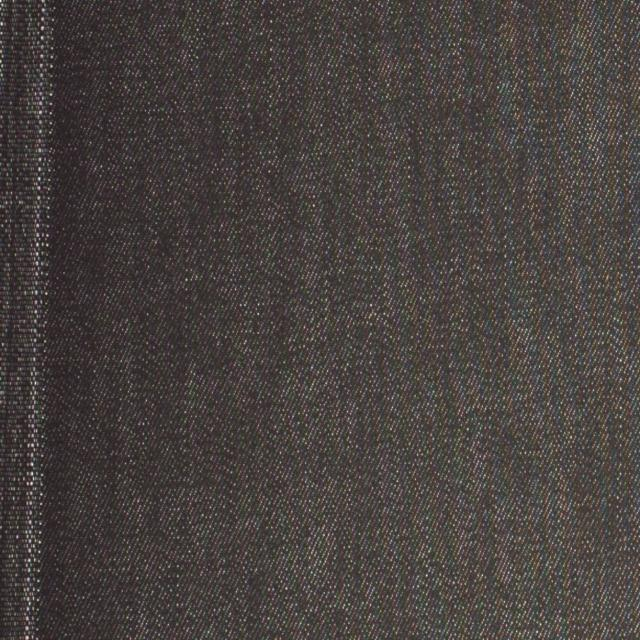Warp_Weft: (0, 0, 58, 639)
